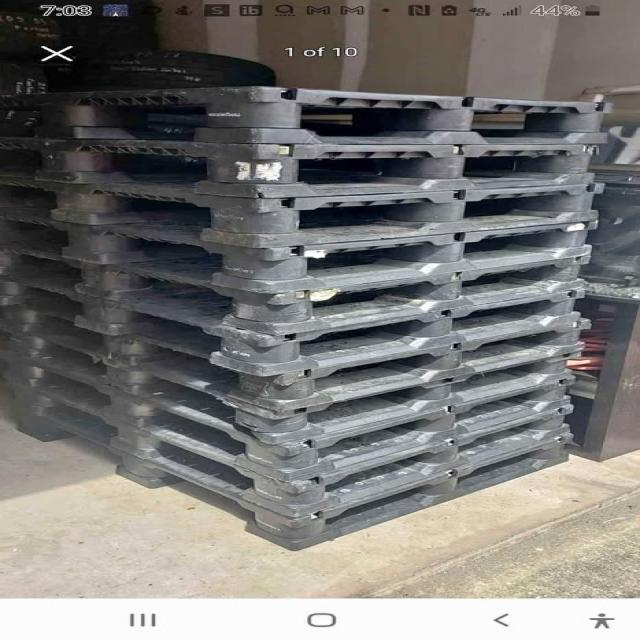non-igps: (0, 365, 585, 524), (0, 398, 578, 556), (0, 337, 583, 488), (0, 323, 596, 451), (0, 292, 598, 418), (0, 266, 595, 384), (0, 236, 600, 344), (0, 214, 608, 298), (0, 170, 615, 252), (0, 77, 620, 153), (0, 130, 607, 205)
